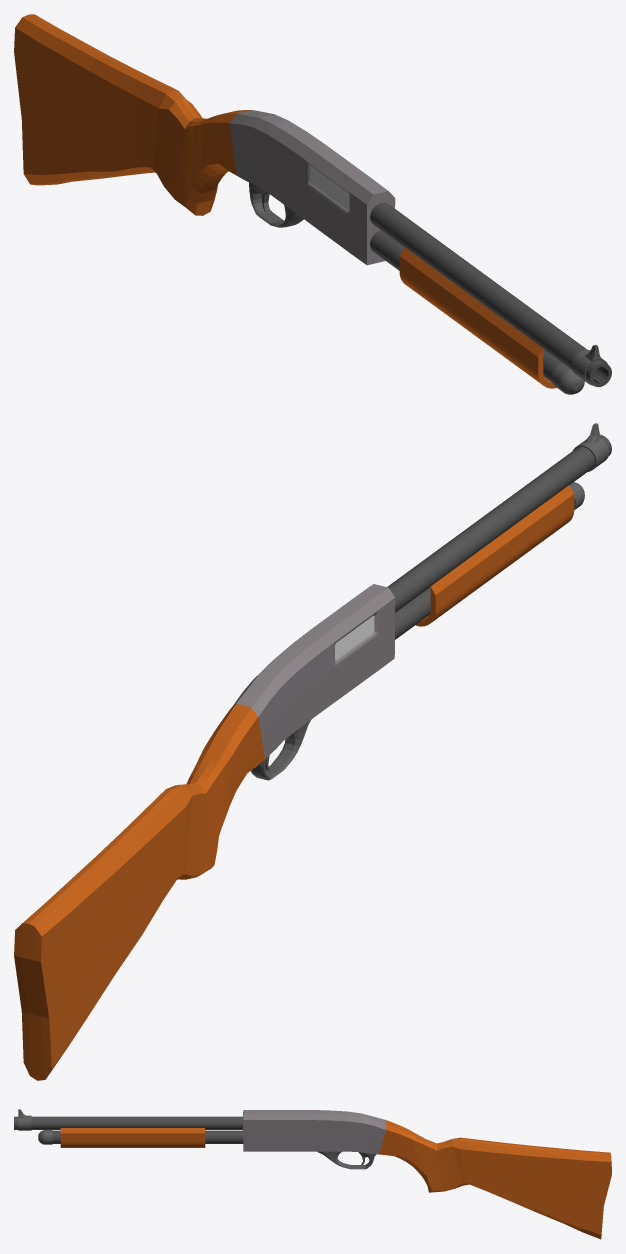
Rendered from REMINGTON.fbx.
3 renders of one model, top to bottom at view 1: azimuth 30°, elevation 25°; view 2: azimuth 150°, elevation 25°; view 3: azimuth 270°, elevation 25°, orthographic. The views are drawn at different scales.
Parts seen in each view (by area): view 1: Cube; view 2: Cube; view 3: Cube.
Boxes of the visible parts, <box> form: Cube: <box>14,14,611,394</box>; Cube: <box>14,423,611,1080</box>; Cube: <box>14,1109,611,1239</box>.
Size of the model in its own units: 3.53 by 23.17 by 96.98.
